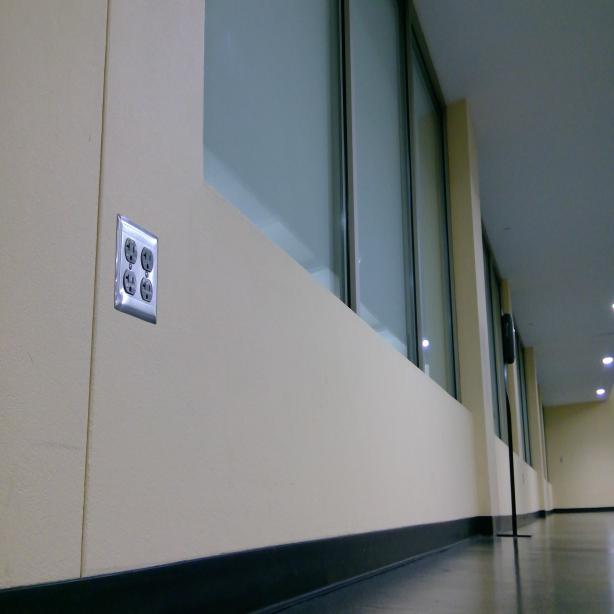typeb: (124, 237, 138, 262), (123, 273, 138, 294), (141, 281, 154, 304), (144, 250, 154, 275)
